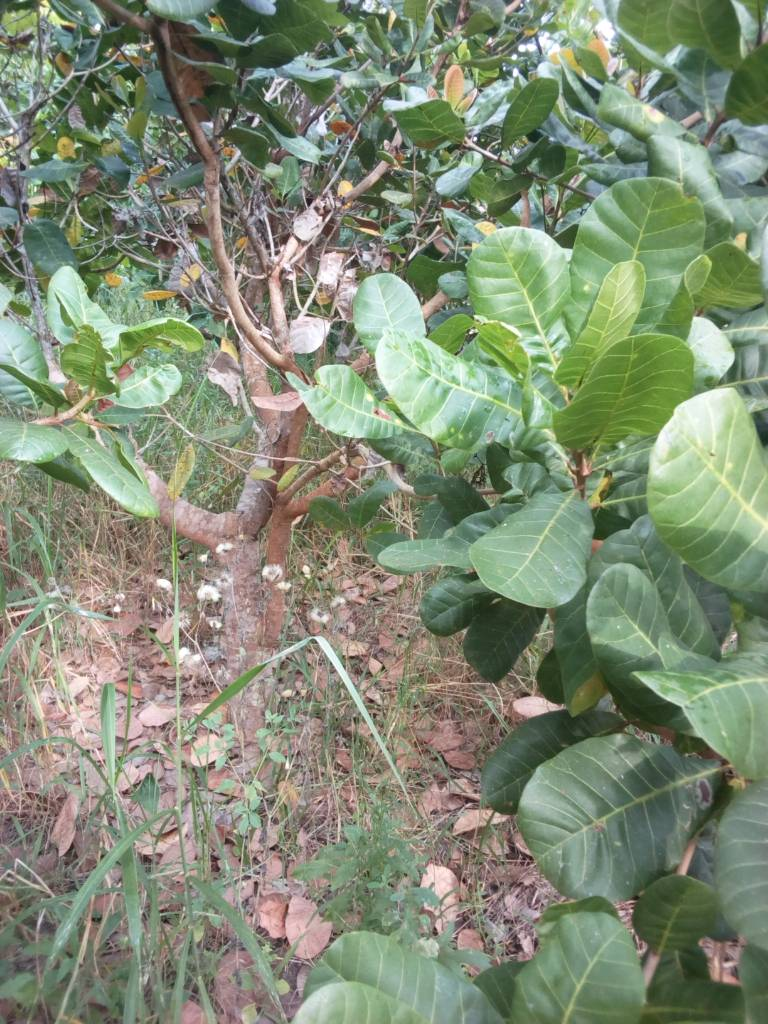Helopeltis anacardii: (377, 332, 550, 446), (115, 317, 205, 361), (60, 324, 108, 399)
